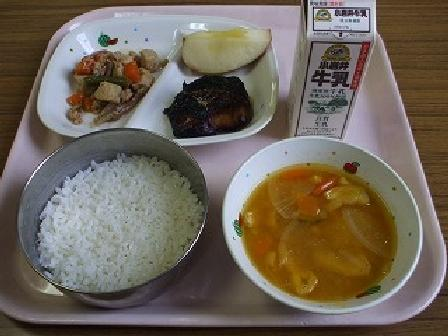Apple: (177, 25, 276, 80)
Fish: (164, 75, 261, 136)
Milk: (284, 0, 382, 145)
Rice: (18, 140, 207, 300)
Soups: (238, 144, 405, 308)
cooked food meat with vegetables: (62, 43, 164, 124)
